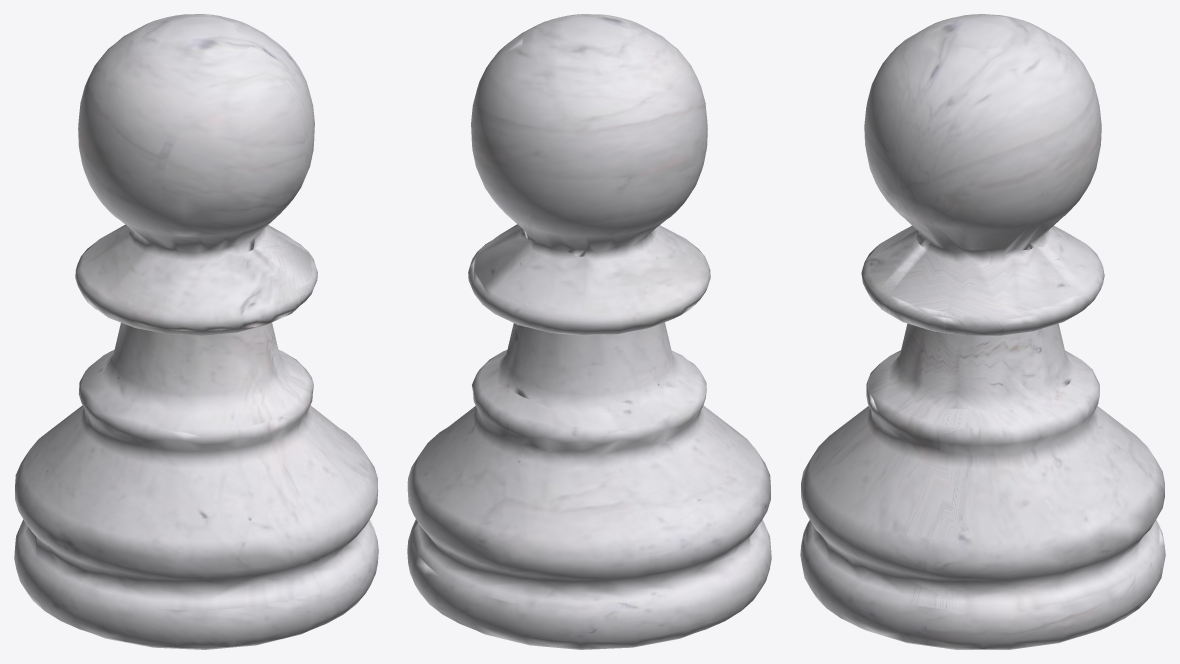
The model's file is white_pawn.glb.
The picture shows the model from 3 angles, left to right: view 1: azimuth 30°, elevation 25°; view 2: azimuth 150°, elevation 25°; view 3: azimuth 270°, elevation 25°; orthographic projection.
Visible parts, largest first — view 1: Circle.019; view 2: Circle.019; view 3: Circle.019.
Part boxes in pixels (x1,y1,x2,y2): Circle.019: (14, 14, 378, 649); Circle.019: (407, 14, 771, 649); Circle.019: (800, 14, 1165, 649).
Size of the model in its own units: 1.14 by 1.91 by 1.14.
Materials: 1 (1 with a texture image).
